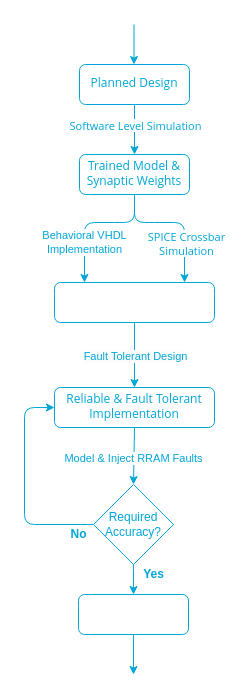
Some shapes in this 242 by 700 pixel diagram are drawn without their labels. The centre of each missing label's shape, as x and y in pixels:
"Area & Power Information" goes at point 134,302.
"Result Evaluation" goes at point 133,614.
